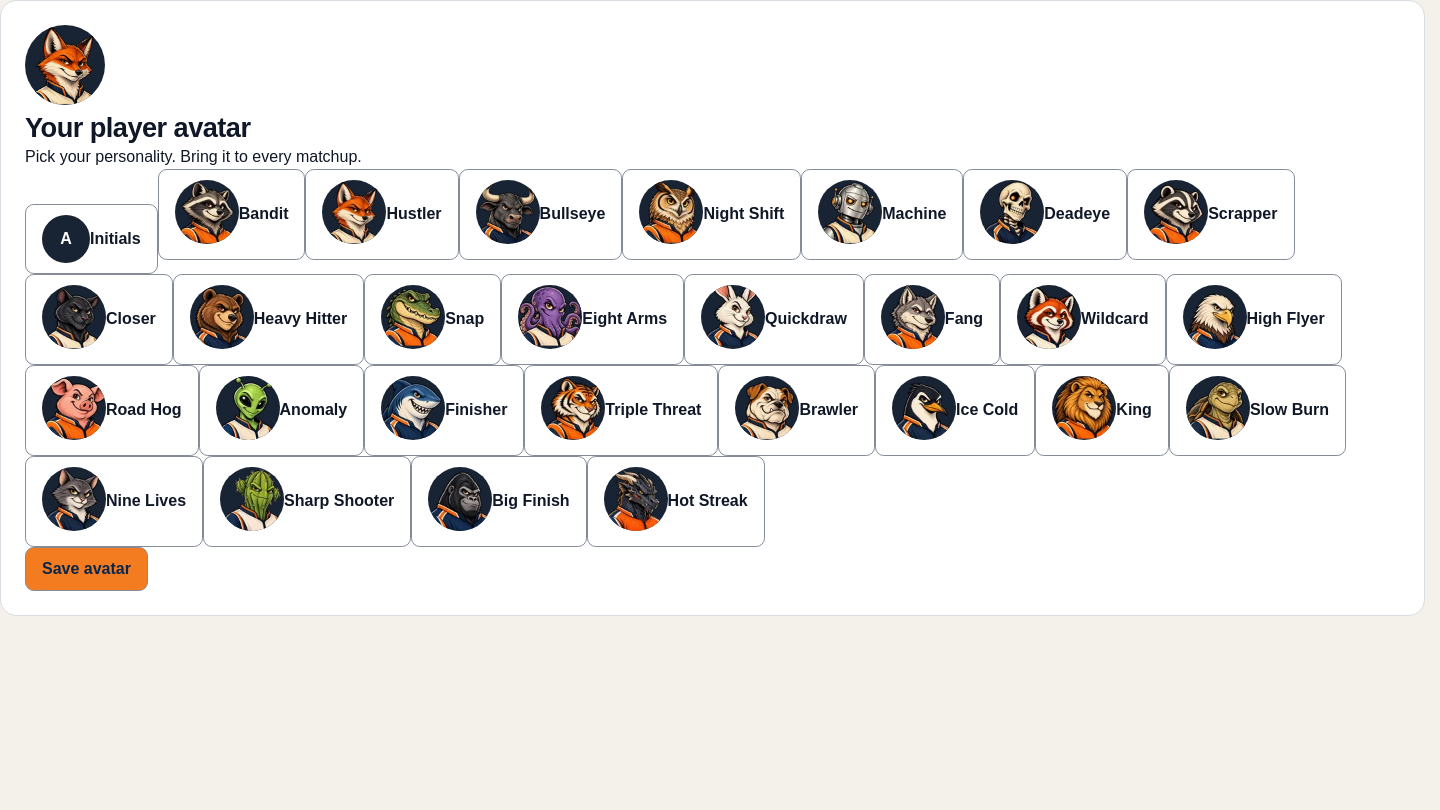
Test: saves the new gorilla choice using its stable ID
This screenshot has width=1440, height=810.
What coordinates should you click on to do the following:
click the button "Big Finish"
I would click on:
 (499, 501)
Its box is [411,456,587,547].
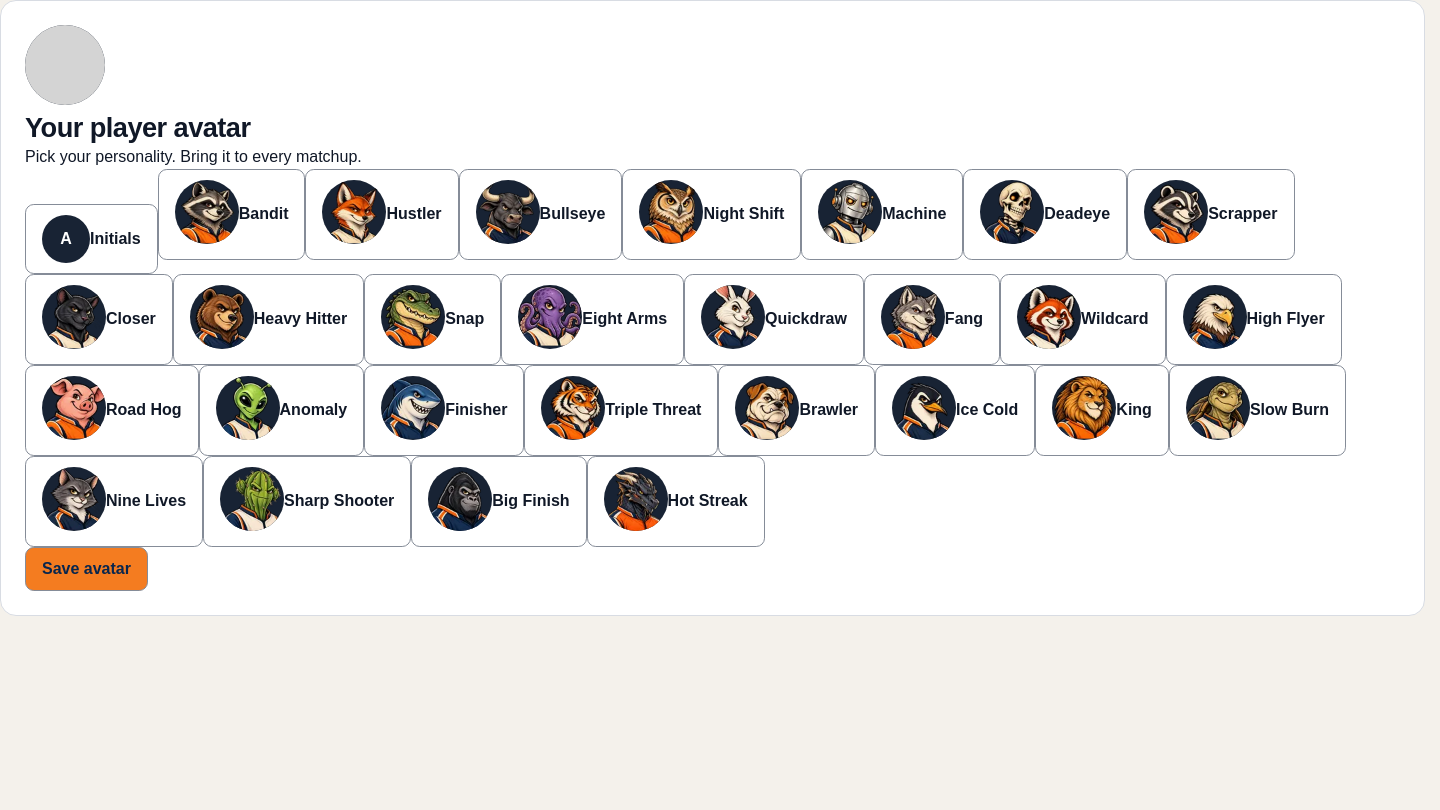
What coordinates should you click on to do the following:
click the button "Save avatar"
I would click on:
 (86, 569)
Its box is [25,547,148,591].
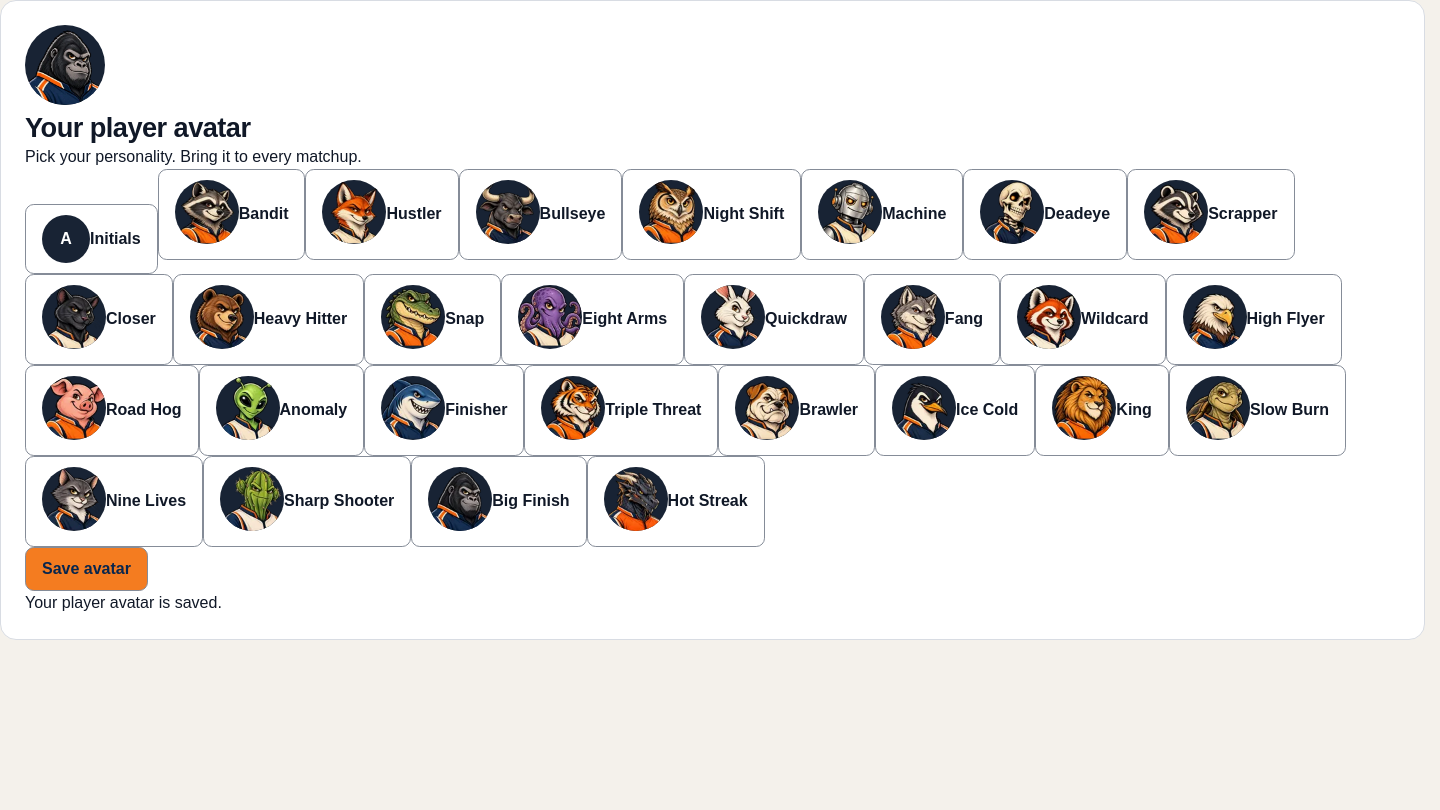
Now the text "Your player avatar is saved." is shown, box [25,594,222,611]
